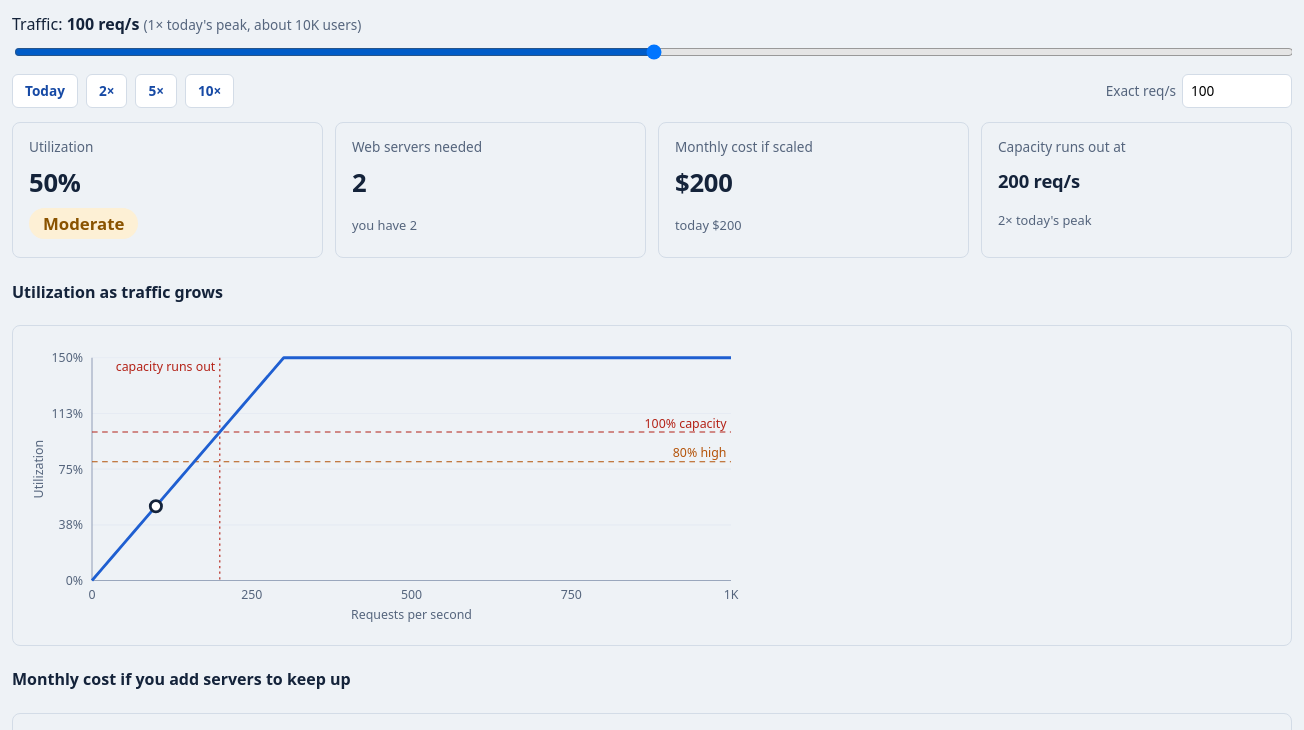
Scenario: Traffic what-if › starts at today's traffic and recalculates locally as the slider moves
This screenshot has width=1304, height=730.
Expected: the text "100 req/s" is shown, [67,13,139,35]
Expected: the text "50%" is shown, [29,165,81,200]
Click the button "10×" at (210, 91), box [185,74,234,108]
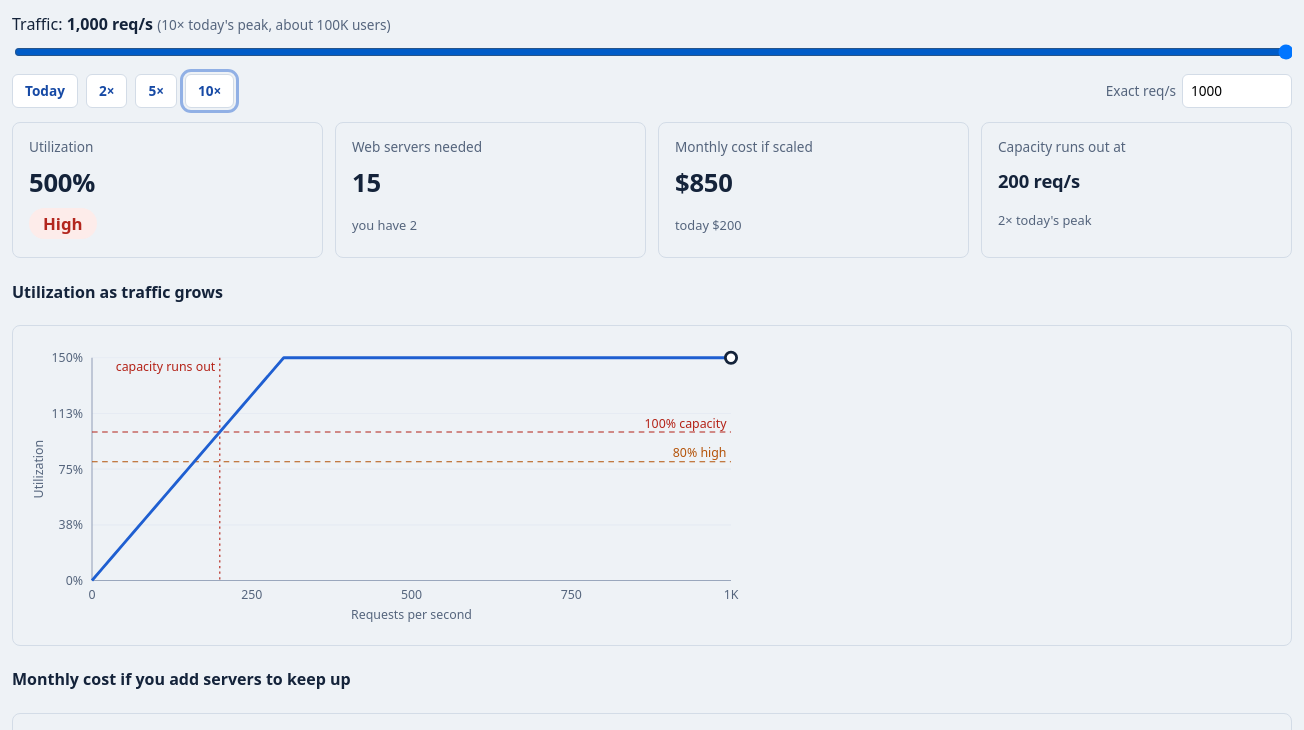
Expected: the text "500%" is shown, [29,165,95,200]
Expected: the text "High" is shown, [29,208,97,239]
Expected: the text "15" is shown, [352,165,381,200]
